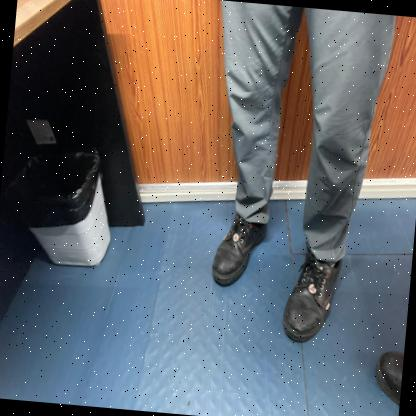bota: (280, 250, 344, 347), (210, 210, 269, 290)
